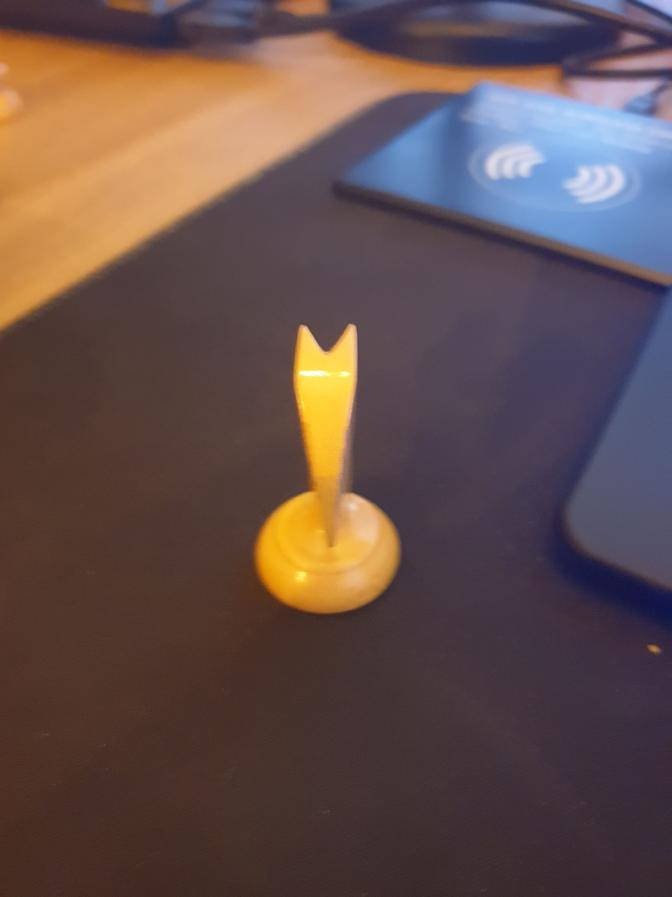wknight: (252, 322, 407, 618)
